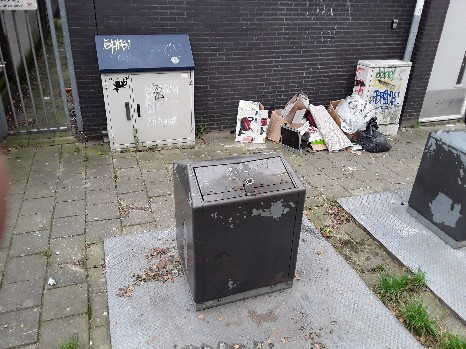Container: (182, 153, 331, 305)
